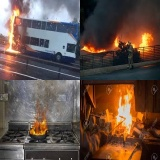fire: (117, 88, 134, 137), (4, 6, 21, 52), (28, 103, 49, 136), (138, 31, 153, 51), (80, 42, 106, 53), (113, 36, 119, 49), (125, 41, 129, 46)
